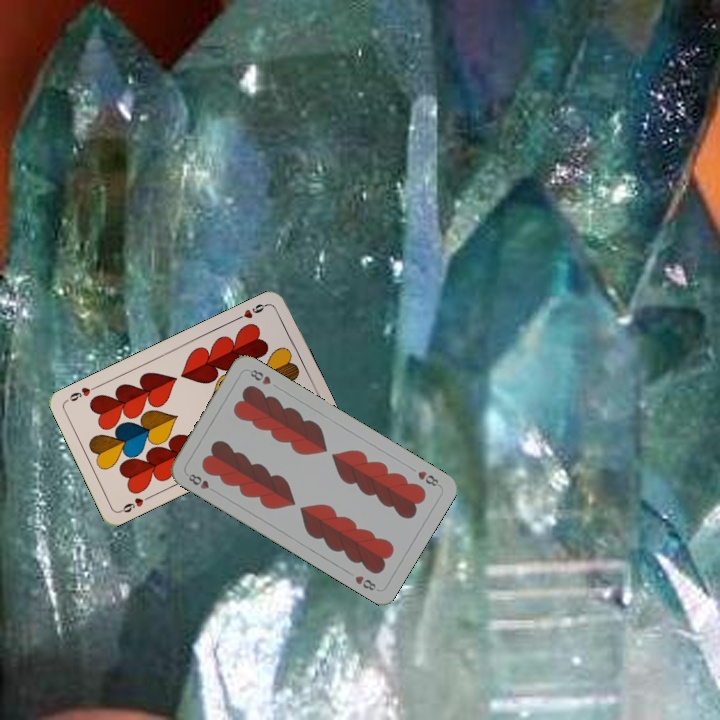H8: (184, 470, 219, 495), (414, 467, 443, 489)
H9: (233, 299, 271, 323), (116, 491, 153, 515)
